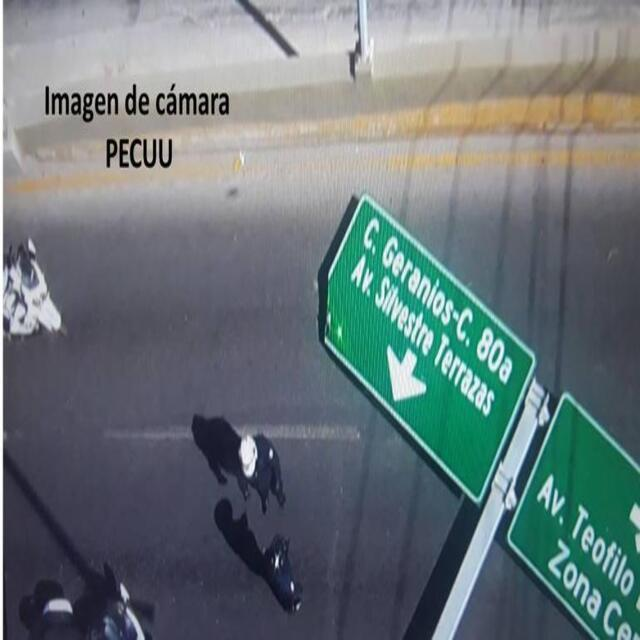Inclined Pole: (302, 184, 640, 640)
